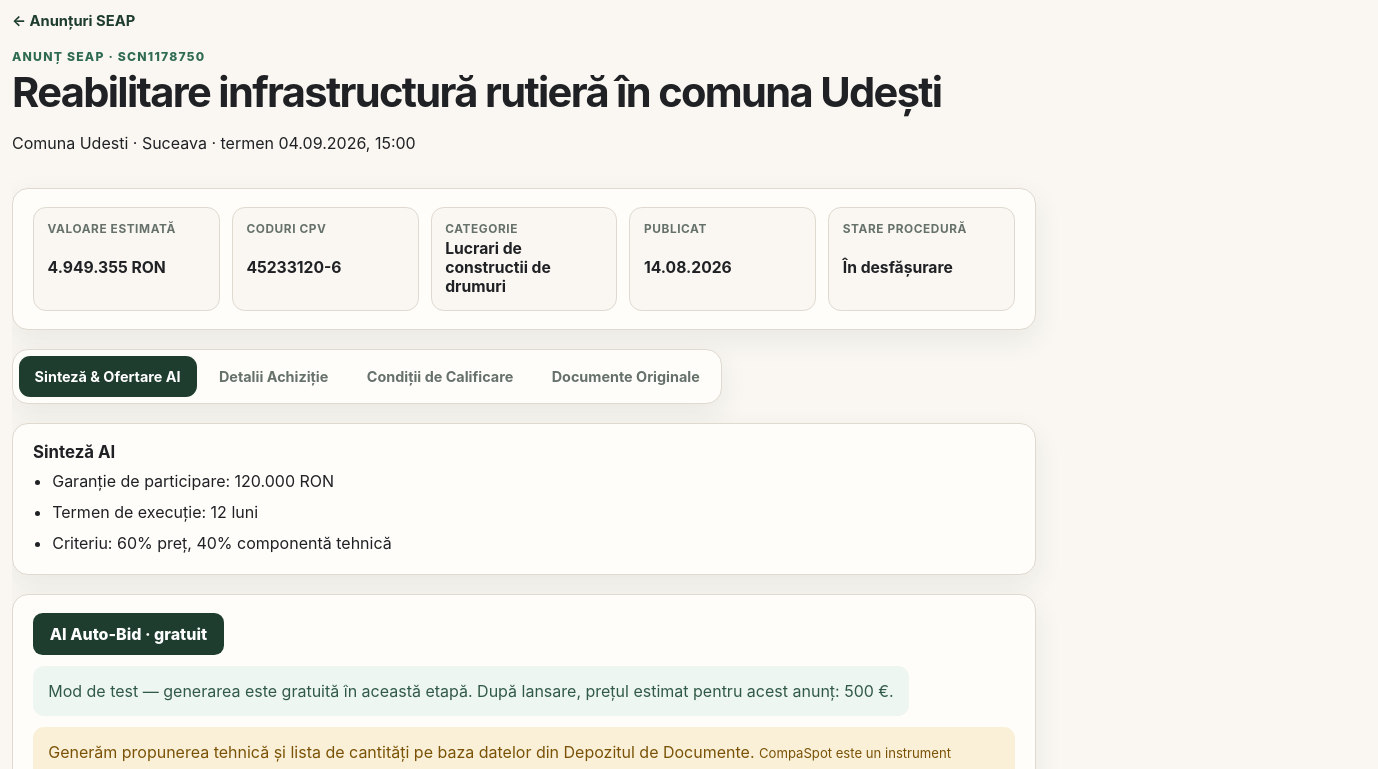
Test: SeapTenderDetailComponent › shows a recoverable error when the document resolution fails
Click the tab "Documente Originale". click: coordinates (626, 376)
box: x1=536 y1=356 x2=716 y2=397
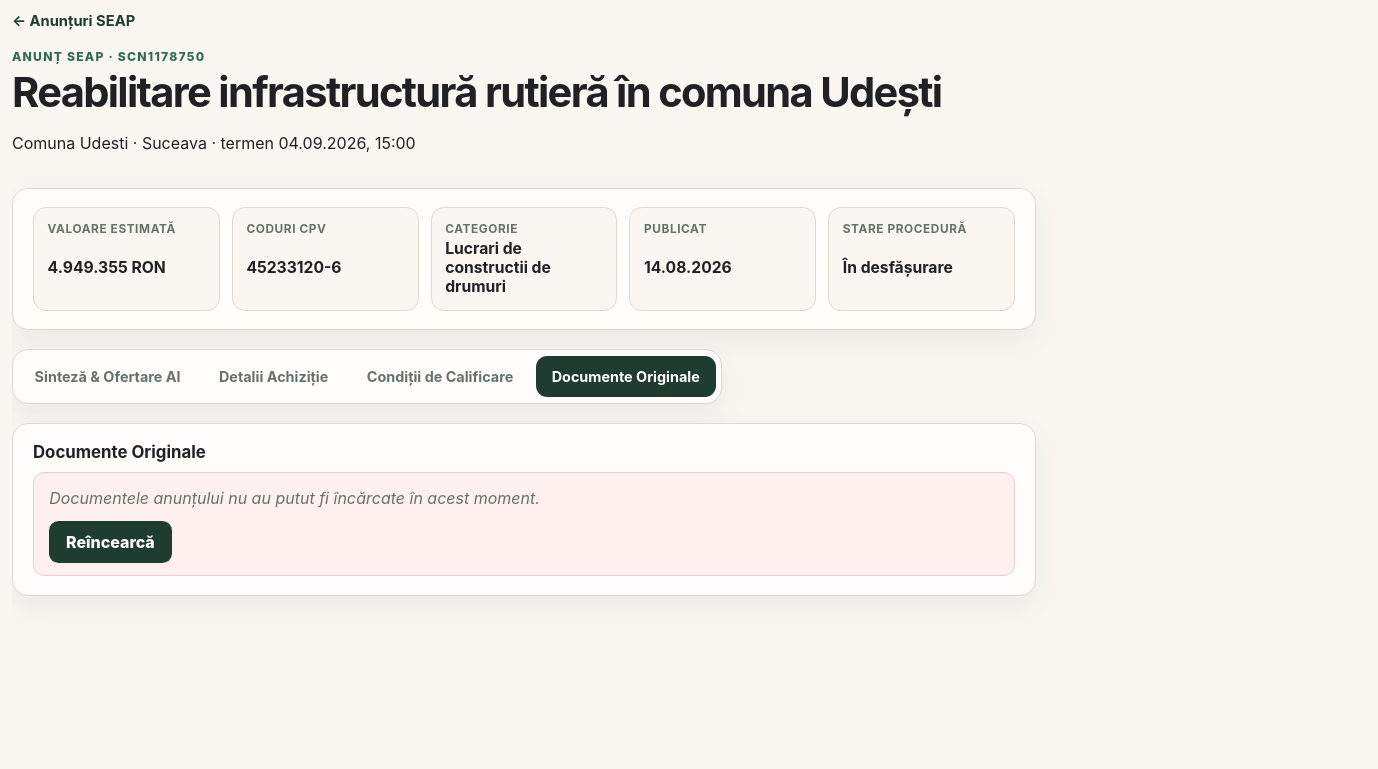
Expected: the text "Documentele anunțului nu au putut fi încărcate" is shown, x1=49 y1=488 x2=540 y2=508
Expected: the text "Reîncearcă" is shown
Click the button "Reîncearcă". click: coordinates (110, 542)
box: x1=49 y1=521 x2=172 y2=563
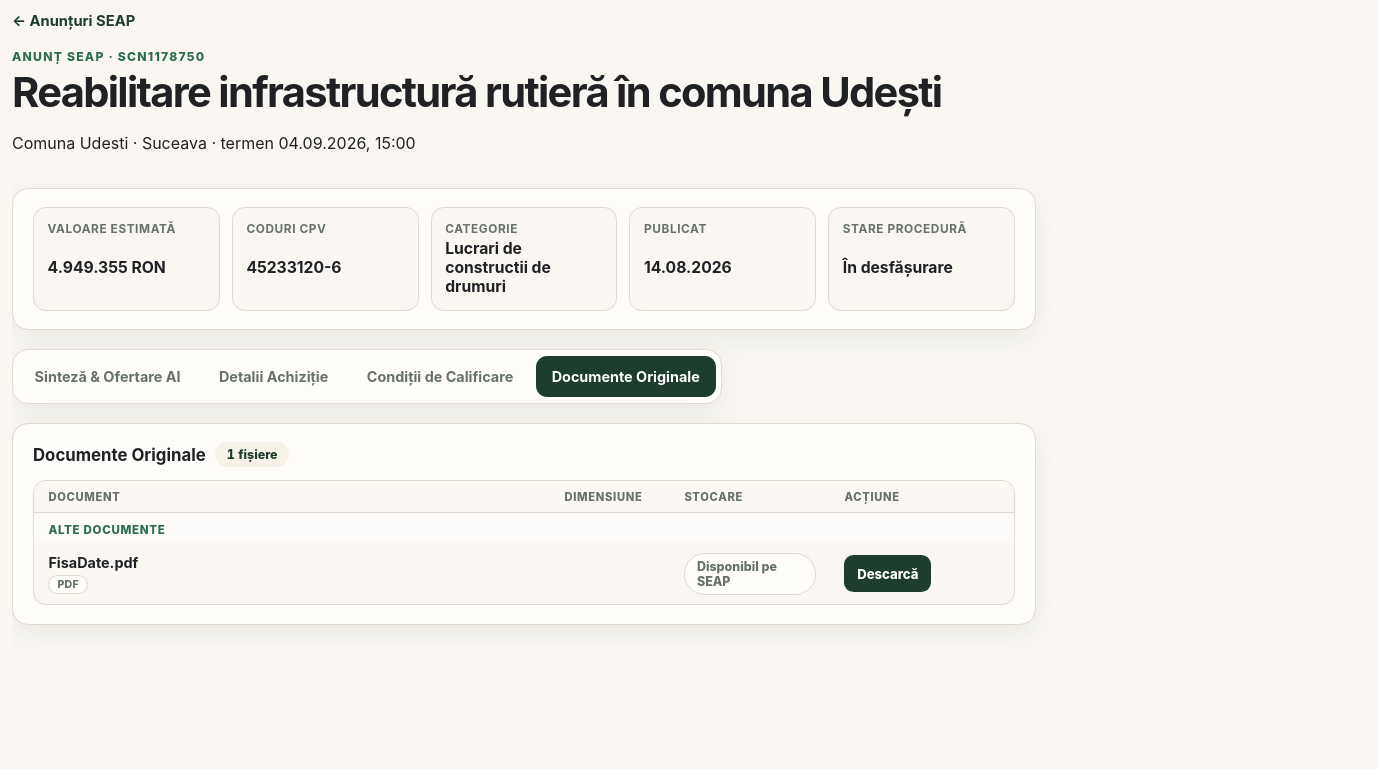
Expected: the text "FisaDate.pdf" is shown, x1=48 y1=554 x2=138 y2=570
